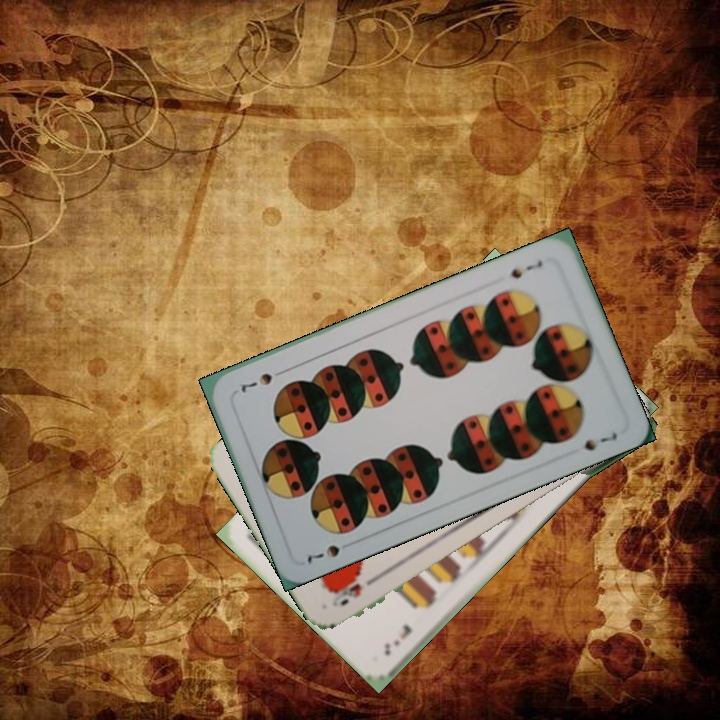E7: (380, 619, 415, 659)
HO: (332, 572, 380, 609)
S7: (303, 541, 343, 567), (506, 256, 545, 282)
